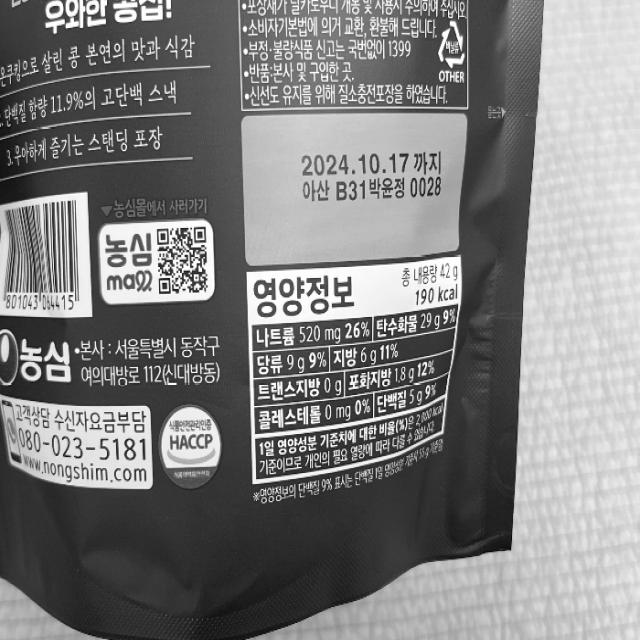Nutrition Label: (242, 250, 468, 493)
